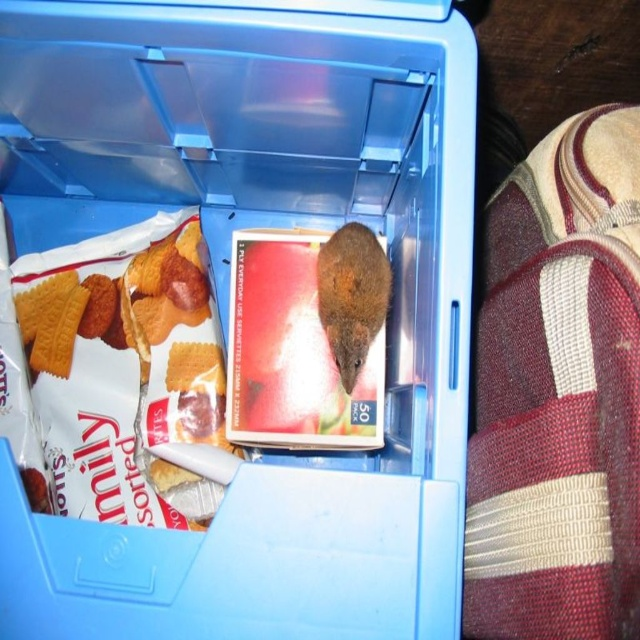Mouse: (318, 224, 390, 394)
